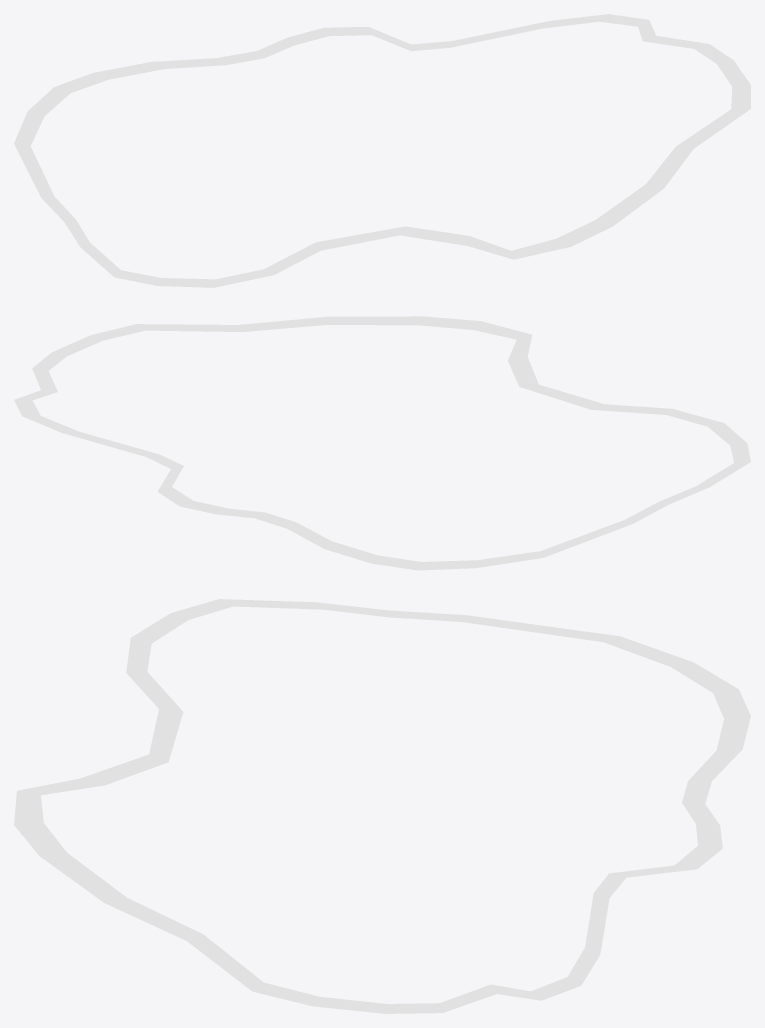
The model's file is pir_m_are_isl_pvpFrench_lowend_wave_none.fbx.
3 renders of one model, top to bottom at view 1: azimuth 30°, elevation 25°; view 2: azimuth 150°, elevation 25°; view 3: azimuth 270°, elevation 25°, orthographic. The views are drawn at different scales.
Parts seen in each view (by area): view 1: mesh_tide1; view 2: mesh_tide1; view 3: mesh_tide1.
Part boxes in pixels (<box>): mesh_tide1: <box>14,14,750,287</box>; mesh_tide1: <box>14,316,750,570</box>; mesh_tide1: <box>14,599,750,1013</box>.
Size of the model in its own units: 94310 by 0.0115 by 70791.
Materials: 1 (1 with a texture image).
